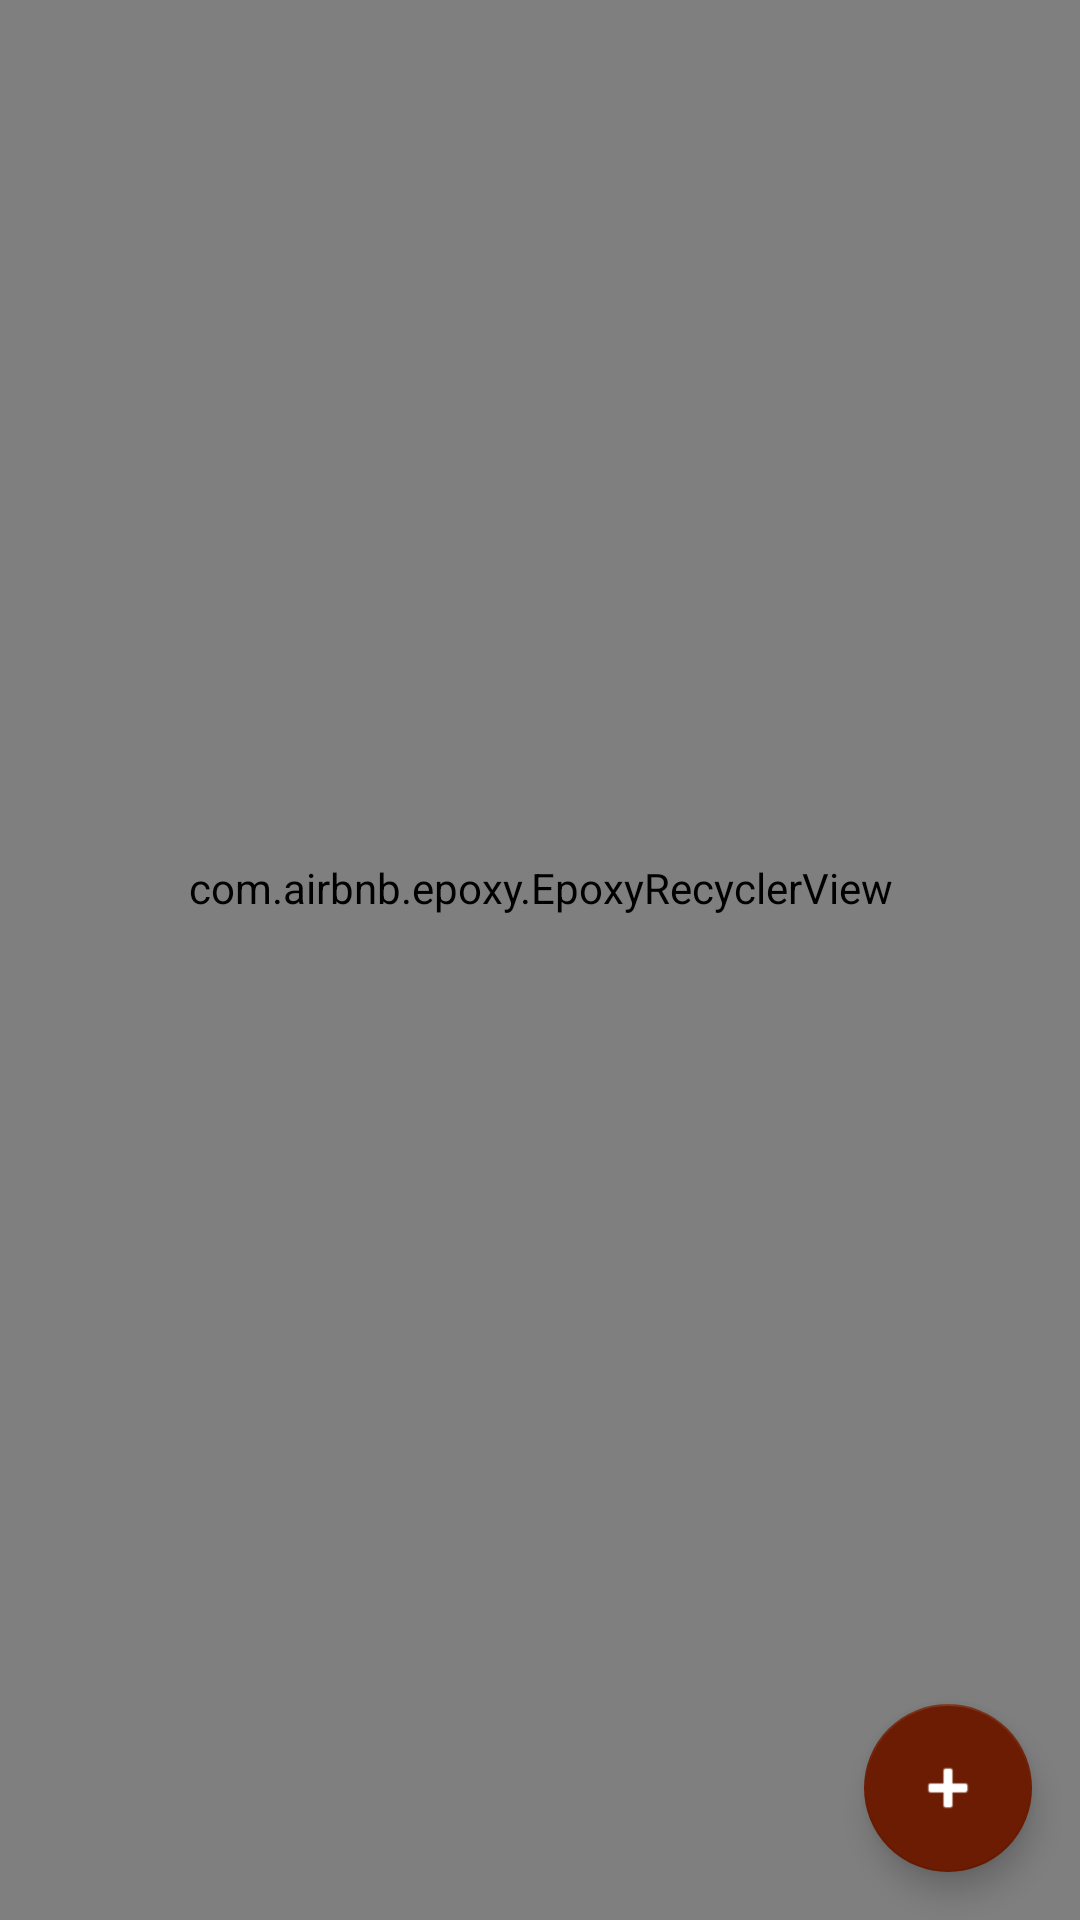

Screen size 1080 × 1920. Icon name, then its box in pixels as (x1, y1, x2, y2):
Add Item: (864, 1704, 1032, 1872)
